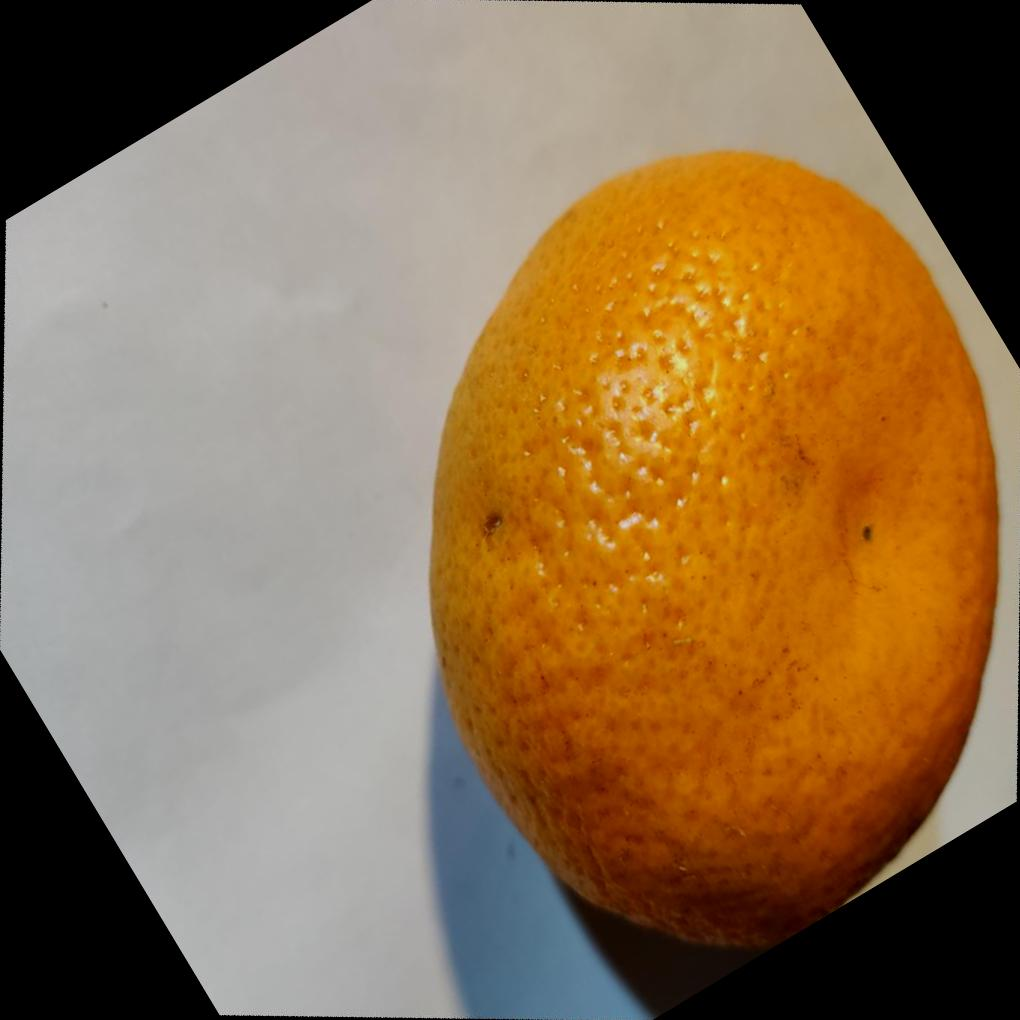FreshGuava: (423, 144, 1004, 948)
